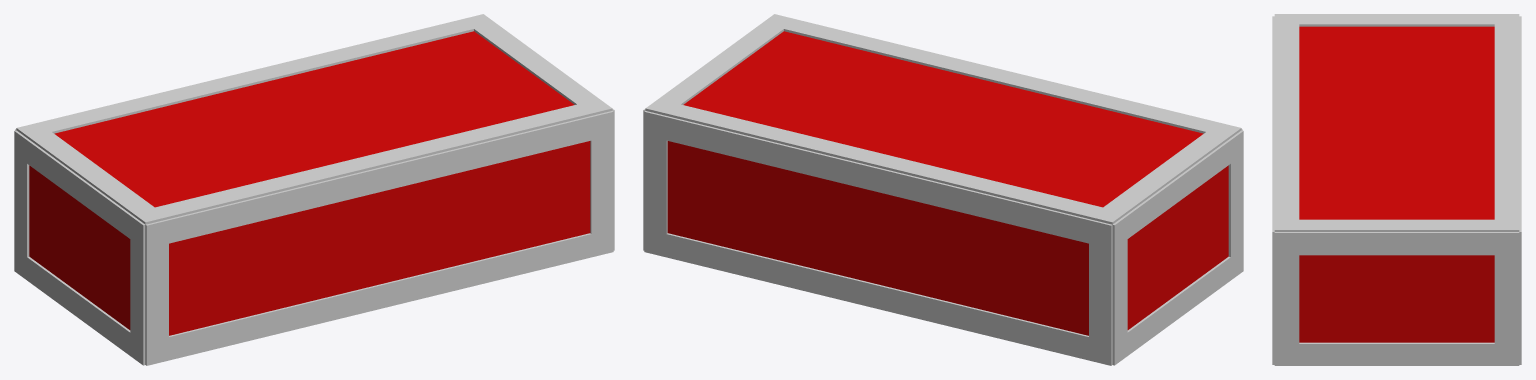
File: Crate2.fbx
3 renders of one model, left to right at view 1: azimuth 30°, elevation 25°; view 2: azimuth 150°, elevation 25°; view 3: azimuth 270°, elevation 25°, orthographic. The views are drawn at different scales.
Parts seen in each view (by area): view 1: Box001; view 2: Box001; view 3: Box001.
Part boxes in pixels (x1,y1,x2,y2): Box001: (14, 14, 614, 365); Box001: (643, 14, 1243, 365); Box001: (1272, 14, 1521, 365).
Size of the model in its own units: 211 by 61 by 102.
